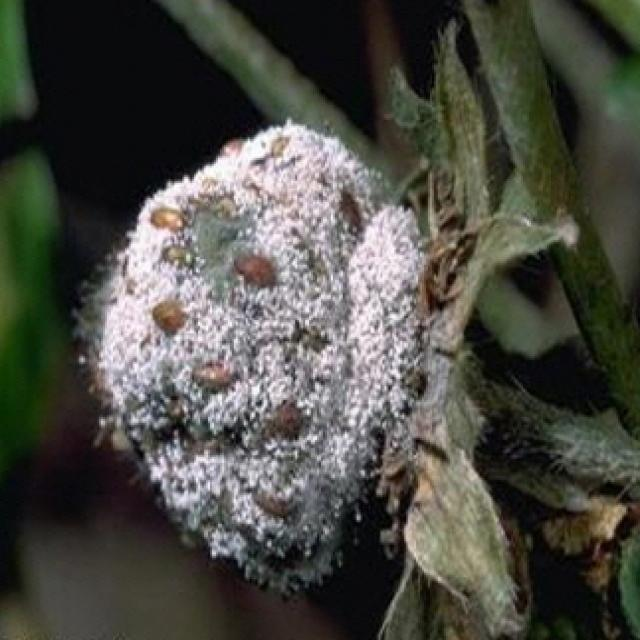Gray Mold: (80, 117, 458, 605)
